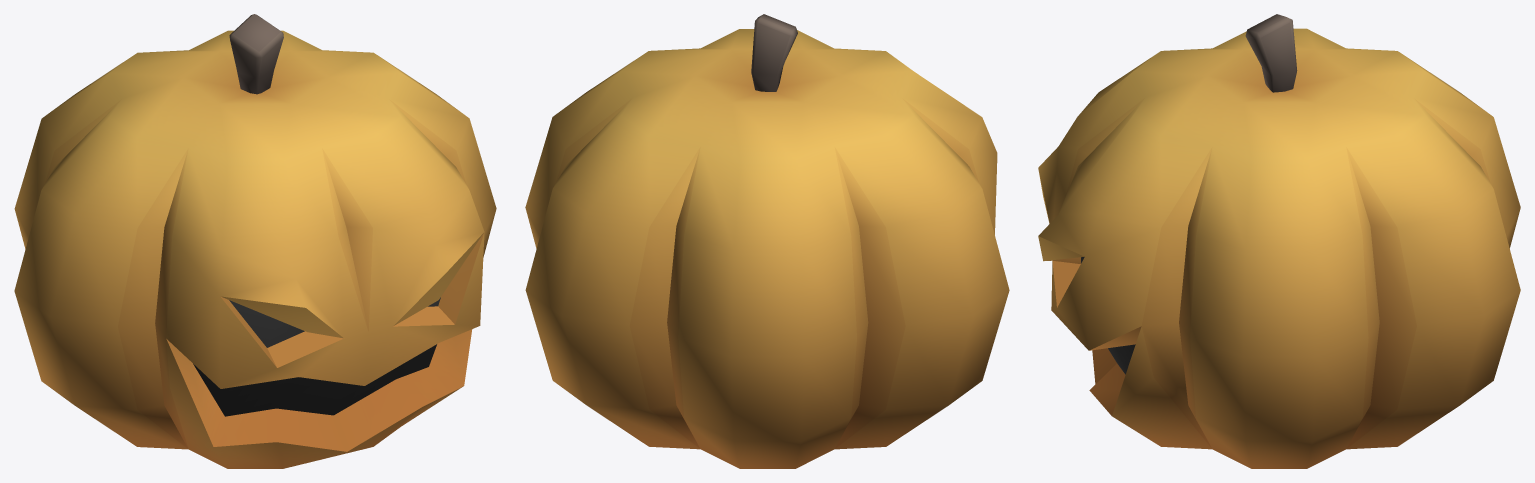
File: Pumpkin.glb
The picture shows the model from 3 angles, left to right: view 1: azimuth 30°, elevation 25°; view 2: azimuth 150°, elevation 25°; view 3: azimuth 270°, elevation 25°; orthographic projection.
Parts seen in each view (by area): view 1: pumpkin_yellow_jackolantern; view 2: pumpkin_yellow_jackolantern; view 3: pumpkin_yellow_jackolantern.
Boxes of the visible parts, x1,y1,x2,y2 form: pumpkin_yellow_jackolantern: [14, 14, 496, 468]; pumpkin_yellow_jackolantern: [525, 14, 1009, 468]; pumpkin_yellow_jackolantern: [1038, 14, 1520, 468].
Bounding box in the file's own units: 1.5 × 1.3 × 1.4.
1 material, 1 textured.
